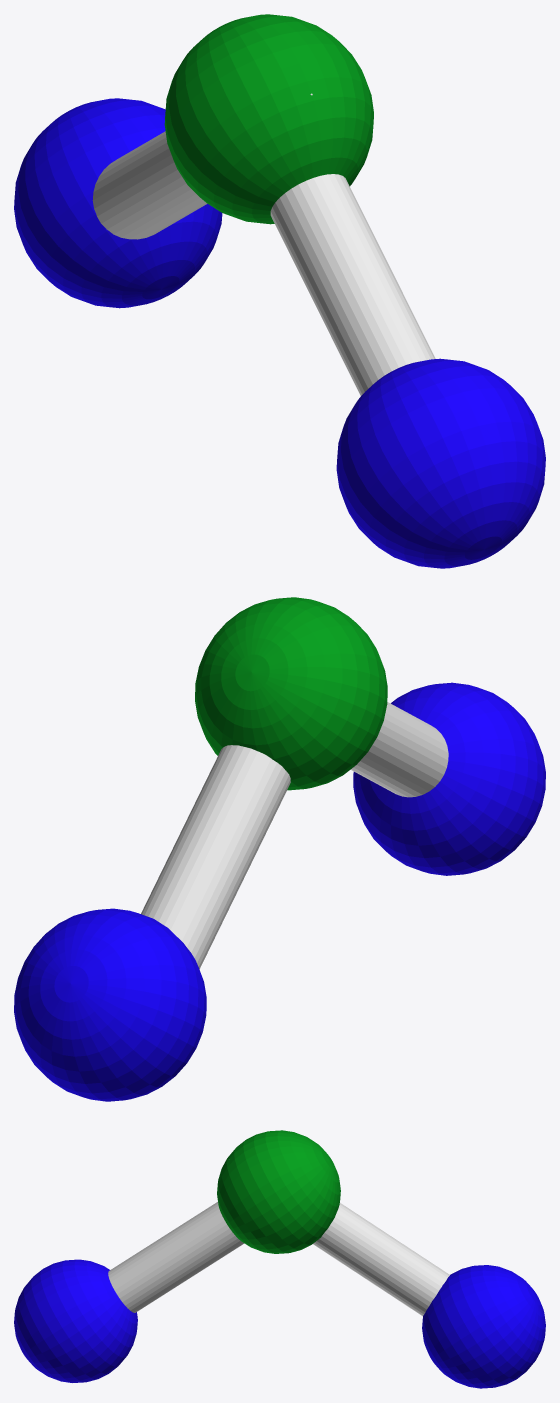
Rendered from carbon2.fbx.
The picture shows the model from 3 angles, top to bottom: view 1: azimuth 30°, elevation 25°; view 2: azimuth 150°, elevation 25°; view 3: azimuth 270°, elevation 25°; orthographic projection. The views are drawn at different scales.
Visible parts, largest first — view 1: oxy2.001; view 2: oxy2.001; view 3: oxy2.001.
Part boxes in pixels (x1=…): oxy2.001: x1=14, y1=14, x2=545, y2=568; oxy2.001: x1=14, y1=597, x2=545, y2=1101; oxy2.001: x1=14, y1=1130, x2=545, y2=1388.
Size of the model in its own units: 113 by 215 by 429.
